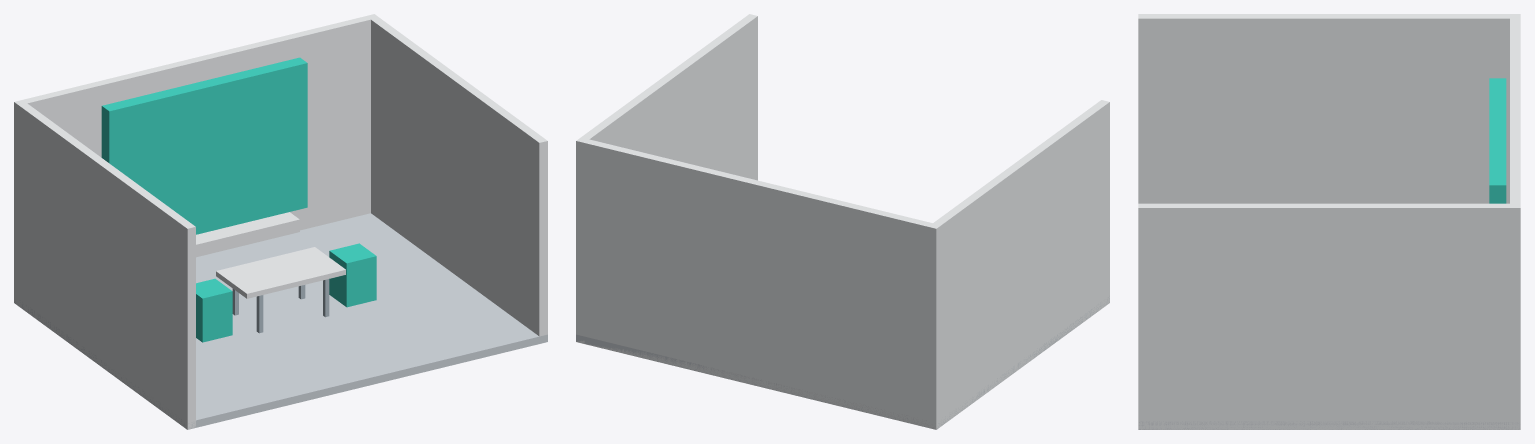
3 renders of one model, left to right at view 1: azimuth 30°, elevation 25°; view 2: azimuth 150°, elevation 25°; view 3: azimuth 270°, elevation 25°, orthographic. The views are drawn at different scales.
Parts seen in each view (by area): view 1: Exhibition Booth Concept; view 2: Exhibition Booth Concept; view 3: Exhibition Booth Concept.
Boxes of the visible parts, x1=… form: Exhibition Booth Concept: x1=14, y1=14, x2=547, y2=429; Exhibition Booth Concept: x1=576, y1=14, x2=1109, y2=429; Exhibition Booth Concept: x1=1138, y1=14, x2=1520, y2=429.
Size of the model in its own units: 6 by 3.2 by 5.
